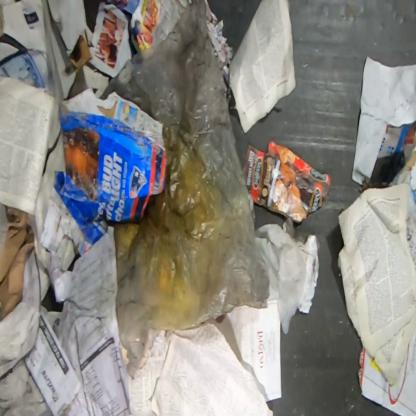cardboard: (40, 89, 168, 257), (0, 0, 94, 99), (243, 141, 332, 225), (365, 119, 416, 213)
soft_plastic: (98, 0, 271, 381), (0, 205, 8, 254)
